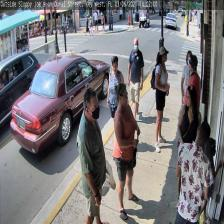person: (76, 87, 110, 223), (175, 120, 211, 224), (114, 81, 140, 218), (176, 84, 202, 209), (107, 56, 124, 158), (184, 55, 201, 157), (154, 45, 170, 152), (127, 38, 144, 125), (181, 50, 196, 144)
